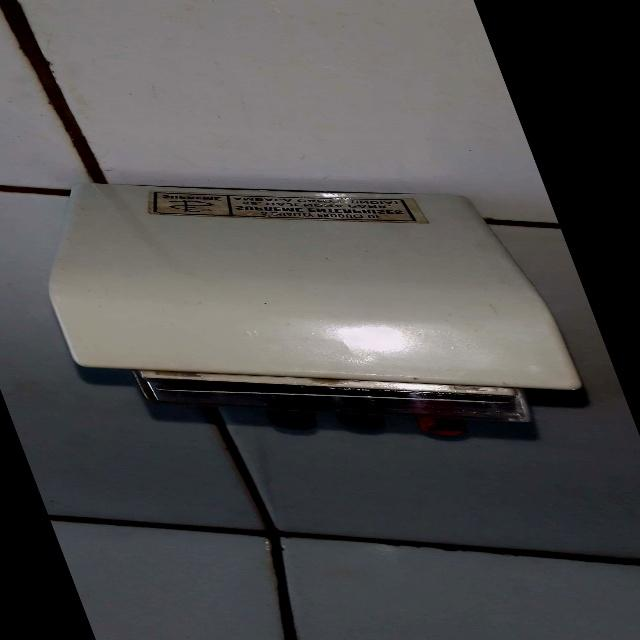Analog Voltmeter: (0, 164, 638, 466)
